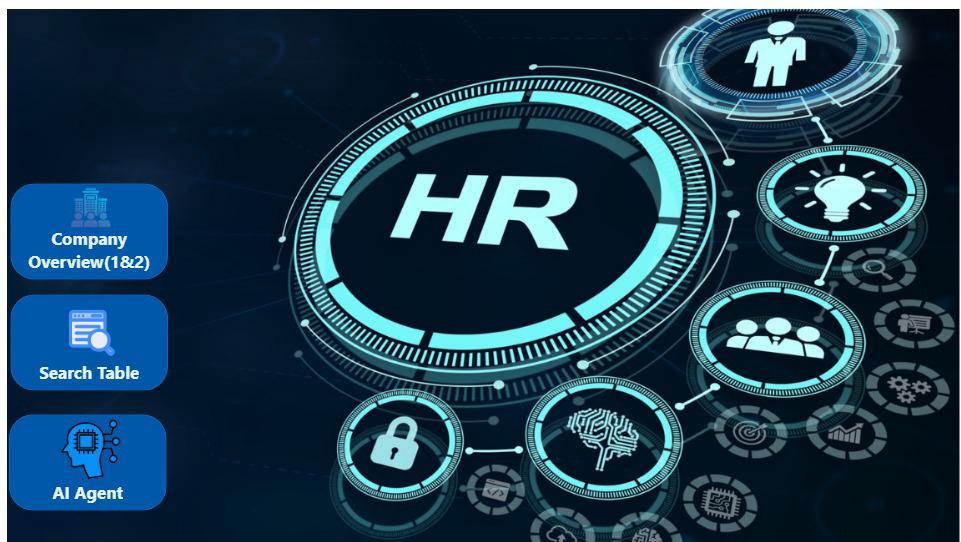

What the dashboard file says about the page in this screenshot:
{"tool":"powerbi","page":{"name":"Home Page","canvas":[1280,720],"ordinal":0},"visuals":[{"type":"image","box":[0,0,1280,722],"z":0},{"type":"shape","box":[10,238,210,128],"z":1000},{"type":"image","box":[62,238,110,64],"z":2000},{"type":"shape","box":[10,386,210,128],"z":3000},{"type":"shape","box":[8,546,210,128],"z":4000},{"type":"image","box":[78,386,80,102],"z":5000},{"type":"image","box":[4,546,226,92],"z":6000}]}

Visuals, with their boxes in screenshot pixels (x1, y1, x2, y2), scaled from the page's 1280x720 canvas onto the 961x542 screenshot:
image: pyautogui.locateOnScreen(0, 0, 960, 541)
shape: pyautogui.locateOnScreen(8, 179, 165, 276)
image: pyautogui.locateOnScreen(47, 179, 129, 227)
shape: pyautogui.locateOnScreen(8, 291, 165, 387)
shape: pyautogui.locateOnScreen(6, 411, 164, 507)
image: pyautogui.locateOnScreen(59, 291, 119, 367)
image: pyautogui.locateOnScreen(3, 411, 173, 480)
